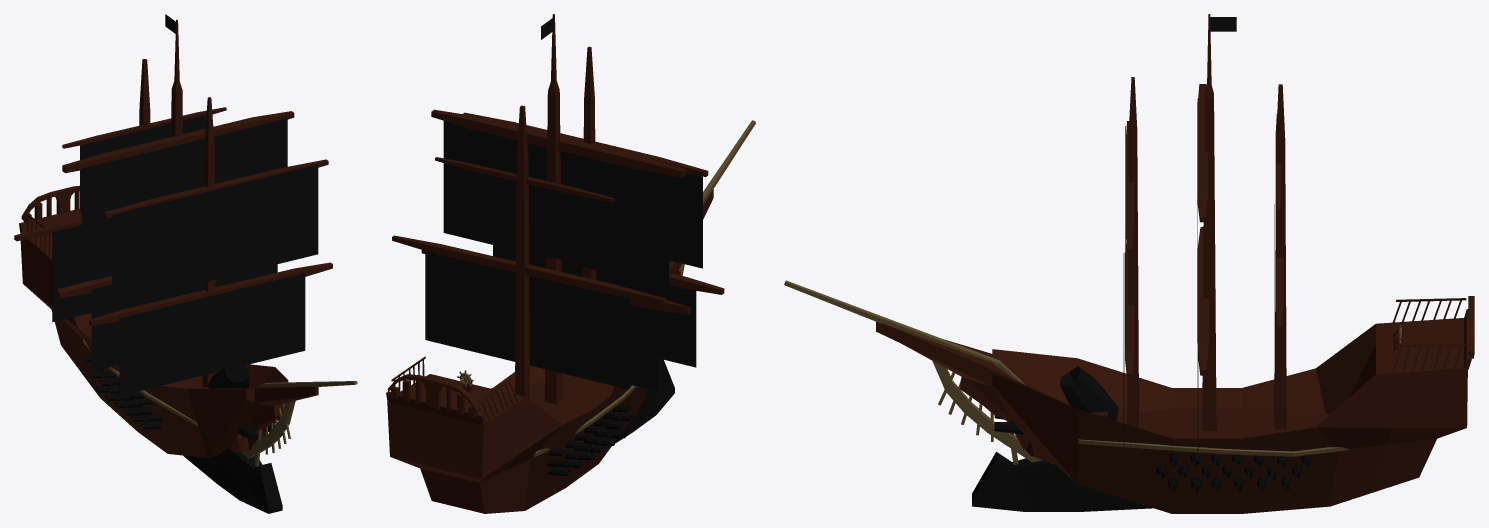
Rendered from man_o_war.fbx.
The picture shows the model from 3 angles, left to right: view 1: azimuth 30°, elevation 25°; view 2: azimuth 150°, elevation 25°; view 3: azimuth 270°, elevation 25°; orthographic projection. The views are drawn at different scales.
Visible parts, largest first — view 1: front_sail_u, front_sail_l, Hull, mid_sail_u, Mast_front, Mast_mid, mid_sail_l, Ram, back_sail_l, Mast_back, Railing, back_sail_u (+4 smaller); view 2: Hull, back_sail_l, mid_sail_u, back_sail_u, Mast_back, Mast_mid, front_sail_l, Railing, front_sail_u, Mast_front, cannons_right, mid_sail_l (+4 smaller); view 3: Hull, Mast_mid, Ram, Deck, Mast_front, Mast_back, Cannons_left, Front_decor, Railing, Mortar_barrel, front_beam, Cube.023.
Part boxes in pixels (x1=…): front_sail_u: x1=112, y1=164, x2=318, y2=304; front_sail_l: x1=119, y1=273, x2=305, y2=395; Hull: x1=20, y1=232, x2=318, y2=457; mid_sail_u: x1=81, y1=118, x2=287, y2=276; Mast_front: x1=89, y1=97, x2=332, y2=387; Mast_mid: x1=57, y1=19, x2=294, y2=297; mid_sail_l: x1=91, y1=264, x2=277, y2=371; Ram: x1=183, y1=447, x2=282, y2=513; back_sail_l: x1=52, y1=225, x2=112, y2=322; Mast_back: x1=14, y1=58, x2=226, y2=241; Railing: x1=19, y1=185, x2=81, y2=256; back_sail_u: x1=80, y1=114, x2=206, y2=211; Hull: x1=387, y1=189, x2=713, y2=513; back_sail_l: x1=425, y1=251, x2=629, y2=389; mid_sail_u: x1=443, y1=121, x2=669, y2=287; back_sail_u: x1=455, y1=166, x2=598, y2=268; Mast_back: x1=392, y1=105, x2=665, y2=399; Mast_mid: x1=421, y1=14, x2=690, y2=404; front_sail_l: x1=493, y1=245, x2=696, y2=367; Railing: x1=386, y1=356, x2=518, y2=424; front_sail_u: x1=669, y1=173, x2=702, y2=268; Mast_front: x1=463, y1=46, x2=724, y2=294; cannons_right: x1=546, y1=403, x2=633, y2=475; mid_sail_l: x1=629, y1=304, x2=657, y2=391; Hull: x1=876, y1=318, x2=1467, y2=513; Mast_mid: x1=1197, y1=14, x2=1216, y2=431; Ram: x1=972, y1=452, x2=1152, y2=511; Deck: x1=1115, y1=408, x2=1341, y2=446; Mast_front: x1=1125, y1=77, x2=1138, y2=427; Mast_back: x1=1274, y1=84, x2=1286, y2=429; Cannons_left: x1=1156, y1=453, x2=1311, y2=491; Front_decor: x1=932, y1=361, x2=1041, y2=464; Railing: x1=1392, y1=296, x2=1474, y2=372; Mortar_barrel: x1=1060, y1=366, x2=1118, y2=420; front_beam: x1=784, y1=280, x2=1025, y2=384; Cube.023: x1=1078, y1=439, x2=1348, y2=456.
Size of the model in its own units: 4288 by 6779 by 8622.
